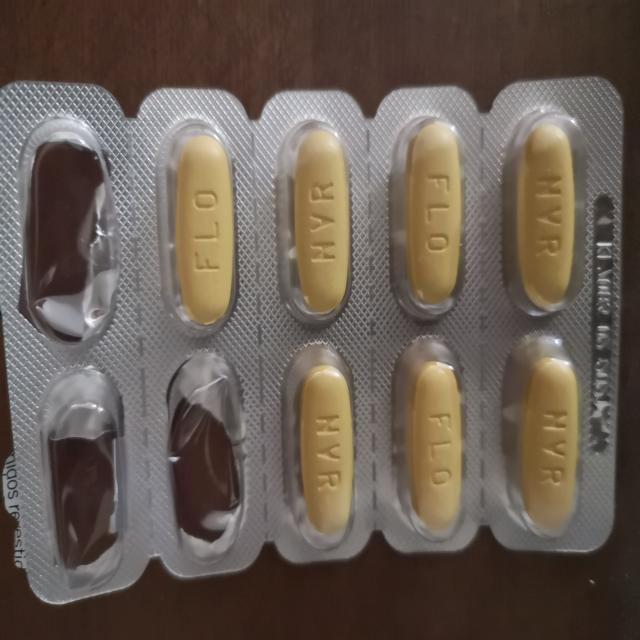Empty: (9, 108, 125, 348), (33, 358, 131, 587), (159, 341, 257, 562)
Pill: (153, 110, 245, 338), (268, 118, 364, 330), (502, 103, 590, 322), (278, 338, 364, 557), (502, 332, 585, 543), (389, 111, 470, 326), (393, 334, 474, 540)
